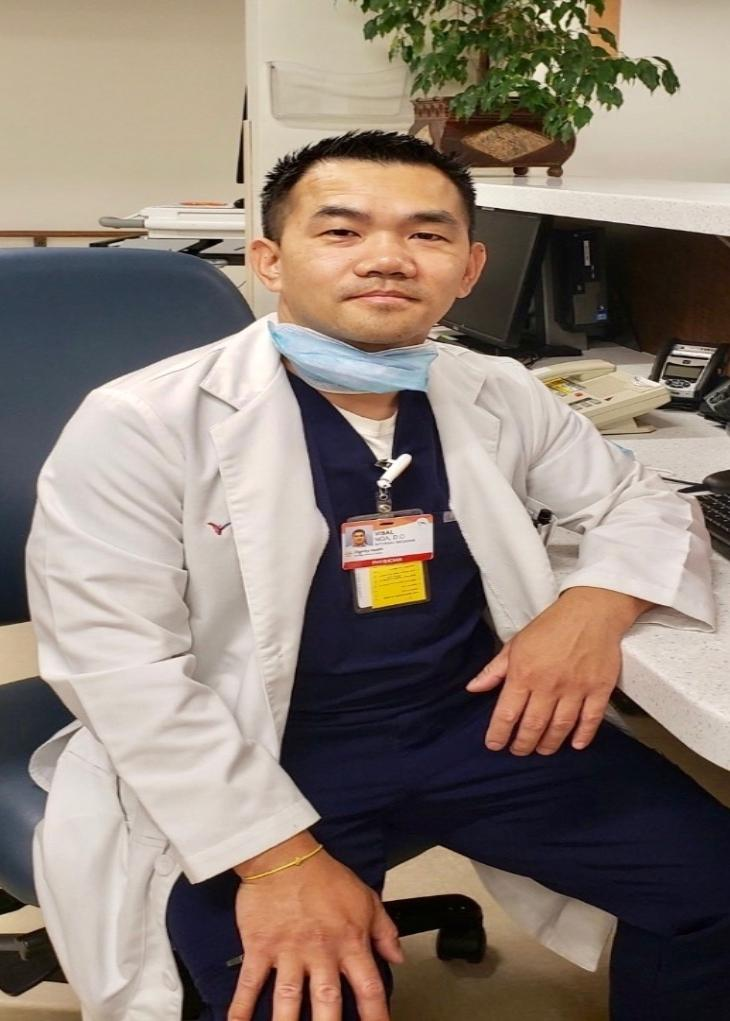mask_weared_incorrect: (249, 130, 482, 366)
